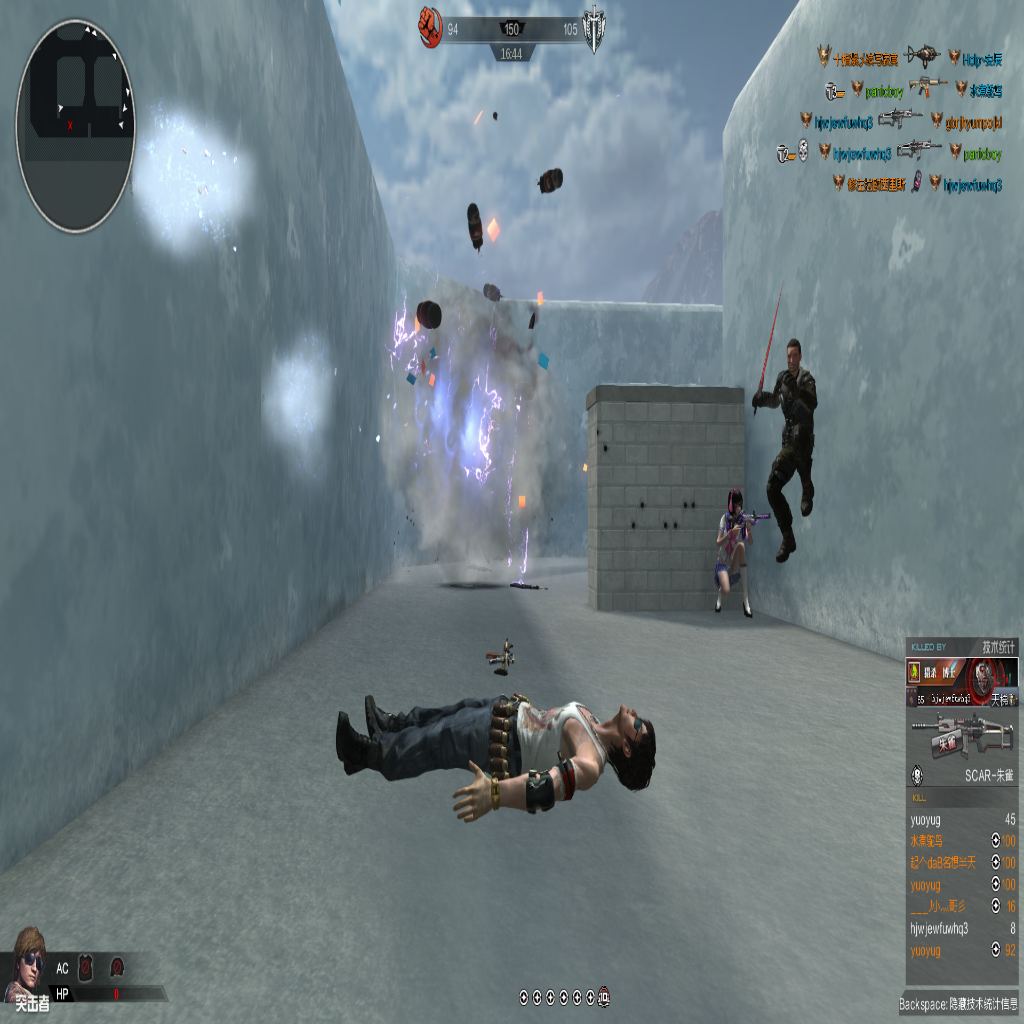ct: (755, 332, 819, 566)
